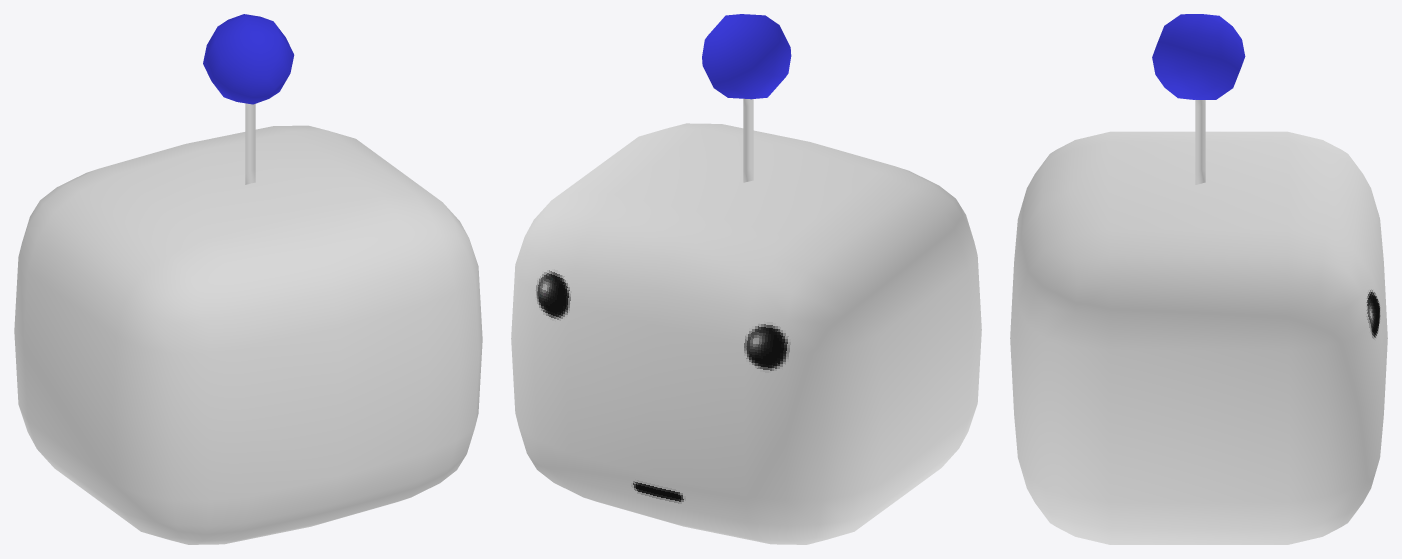
The model's file is ps2_save-icons_uchuujinttenani.glb.
The picture shows the model from 3 angles, left to right: view 1: azimuth 30°, elevation 25°; view 2: azimuth 150°, elevation 25°; view 3: azimuth 270°, elevation 25°; orthographic projection.
Parts seen in each view (by area): view 1: icon00.ico; view 2: icon00.ico; view 3: icon00.ico.
Part boxes in pixels (x1,y1,x2,y2): icon00.ico: [14, 14, 482, 544]; icon00.ico: [511, 14, 981, 544]; icon00.ico: [1010, 14, 1387, 544].
Size of the model in its own units: 3.85 by 4.8 by 3.43.
Materials: 1 (1 with a texture image).
